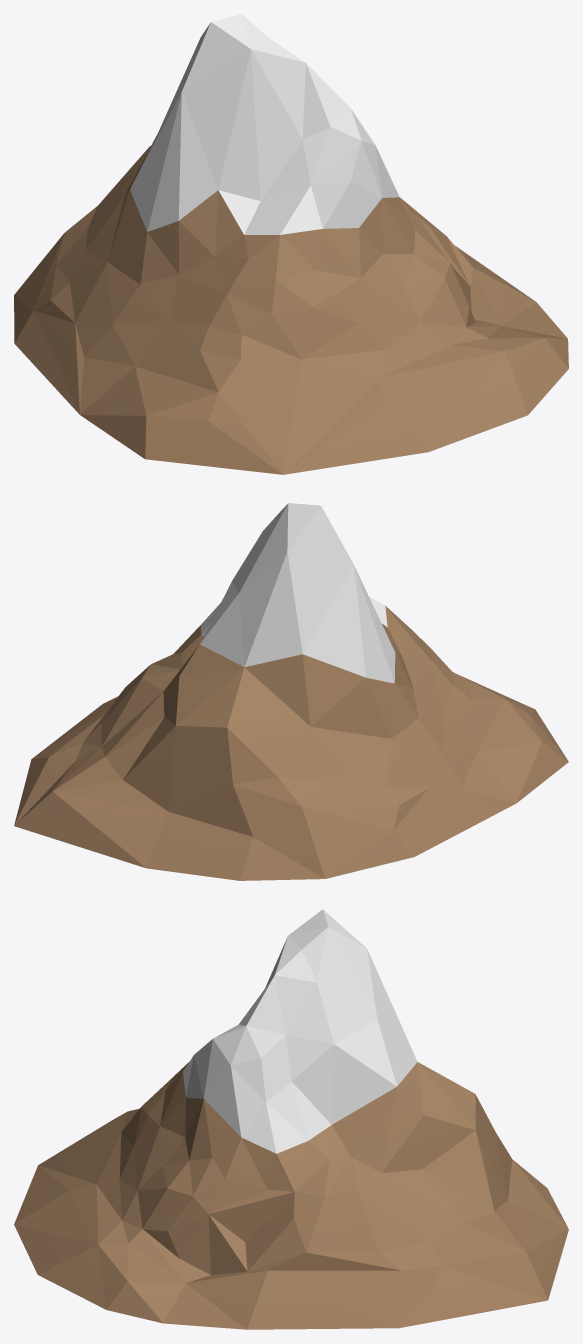
Rendered from Mountain_02.fbx.
3 renders of one model, top to bottom at view 1: azimuth 30°, elevation 25°; view 2: azimuth 150°, elevation 25°; view 3: azimuth 270°, elevation 25°, orthographic. The views are drawn at different scales.
Parts seen in each view (by area): view 1: Mountain_02; view 2: Mountain_02; view 3: Mountain_02.
Boxes of the visible parts, box(x1,y1,x2,y2) form: Mountain_02: box(14, 14, 568, 474); Mountain_02: box(14, 503, 568, 880); Mountain_02: box(14, 909, 568, 1329).
Bounding box in the file's own units: 5921 × 3942 × 6763.
